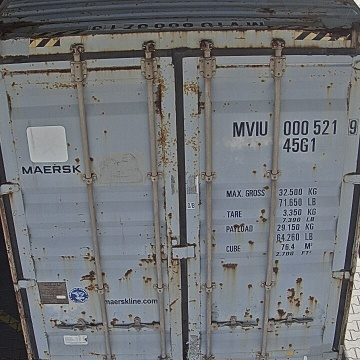serial_id: (233, 118, 358, 136)
